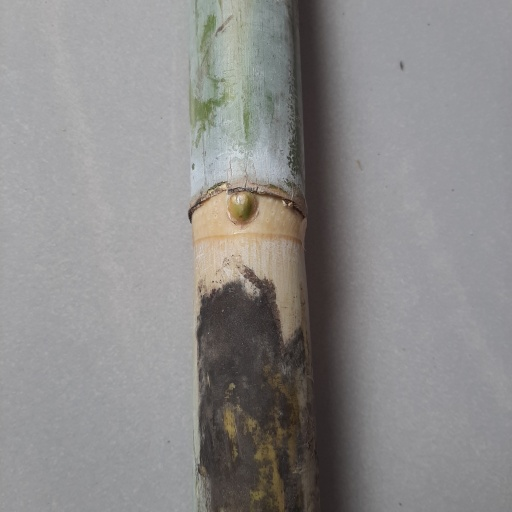Bud: (225, 190, 260, 226)
